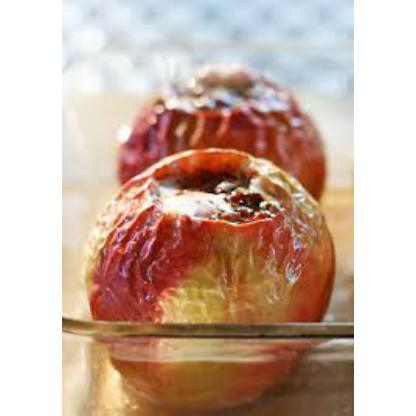apple: (75, 152, 339, 332), (108, 64, 324, 208)
